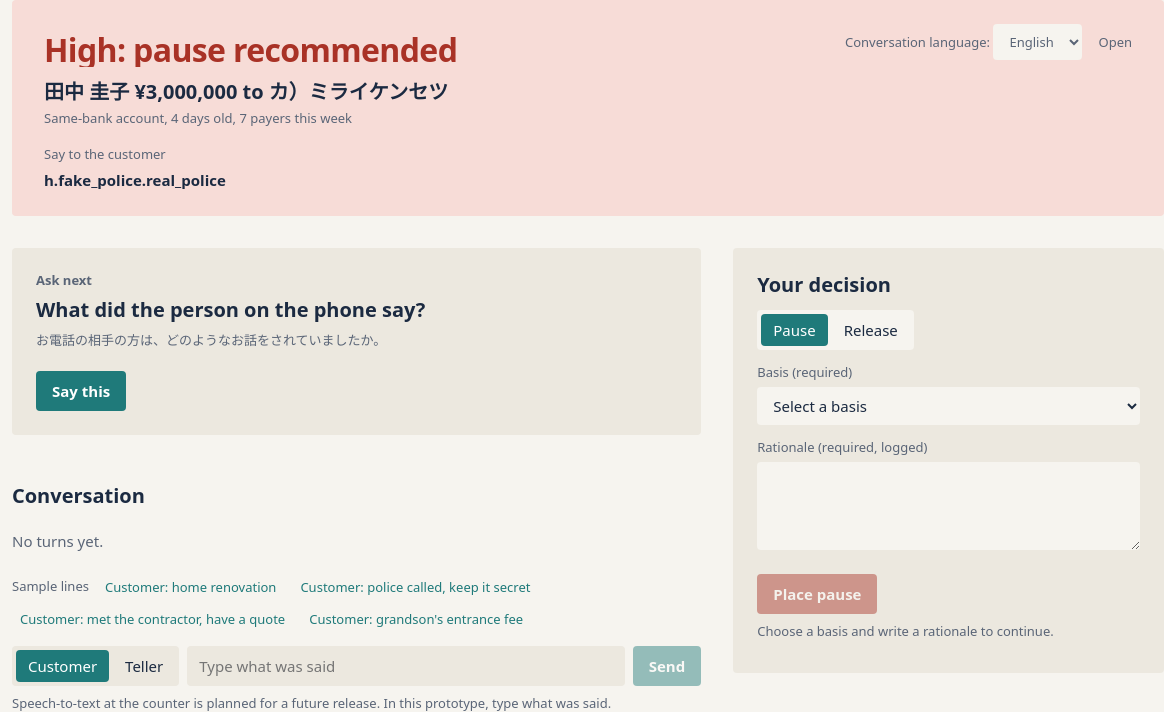
Test case: counter in an English case (WI-006) › offers the English customer lines, not the Japanese ones
Check: the button "Customer: home renovation" is shown, box [97, 573, 284, 601]
Click the button "Customer: police called, keep it secret" at (415,587), box [292, 573, 538, 601]
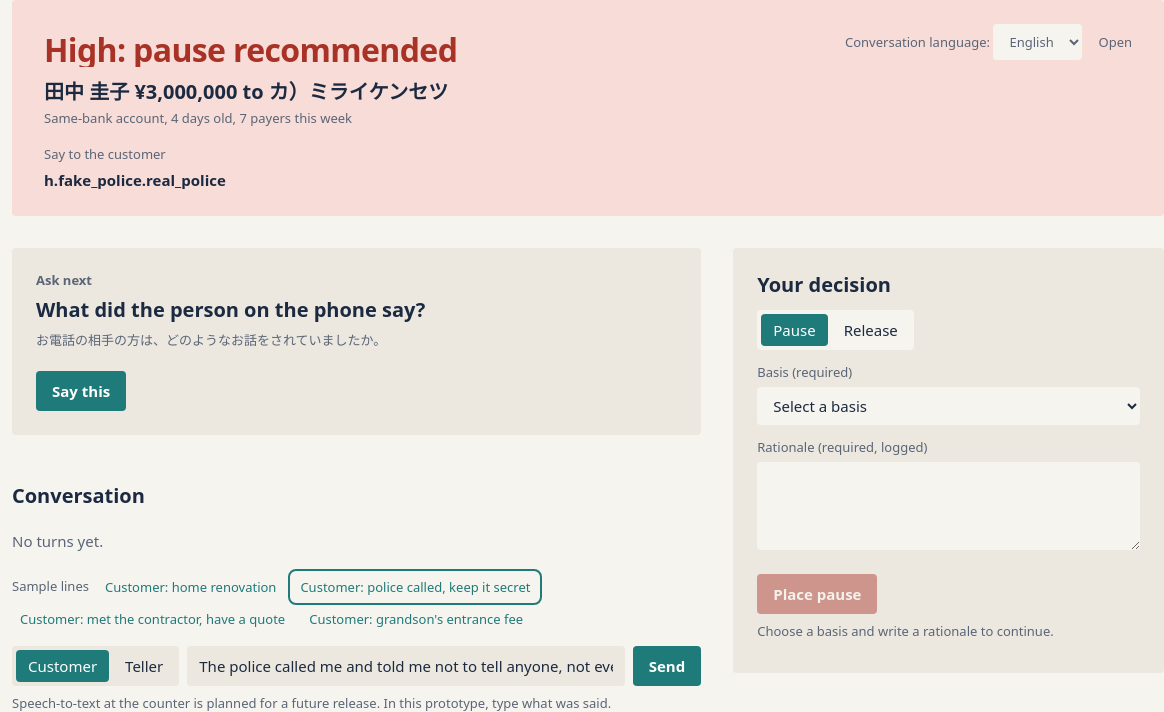
Check: the field named "Turn text" holds "The police called me and told me not to tell anyone, not even my family.", box [187, 646, 625, 686]
